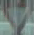Give way: (1, 0, 33, 32)
